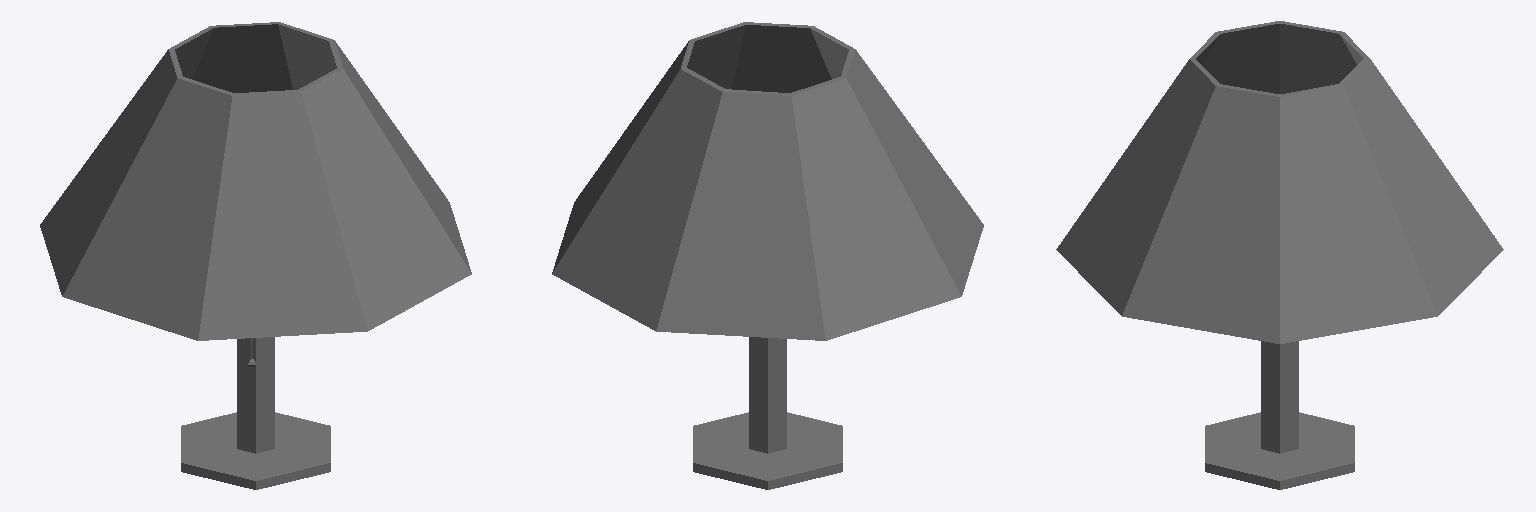
File: lamp.obj
3 views of the same model, side by side, from view 1: azimuth 30°, elevation 25°; view 2: azimuth 150°, elevation 25°; view 3: azimuth 270°, elevation 25° (orthographic).
Visible parts, largest first — view 1: pCylinder1, pCylinder2; view 2: pCylinder1, pCylinder2; view 3: pCylinder1, pCylinder2.
Part boxes in pixels (bbox=[...]): pCylinder1: bbox=[40, 22, 471, 340]; pCylinder2: bbox=[181, 337, 330, 489]; pCylinder1: bbox=[552, 22, 983, 340]; pCylinder2: bbox=[693, 337, 842, 489]; pCylinder1: bbox=[1056, 21, 1503, 343]; pCylinder2: bbox=[1205, 341, 1354, 489].
Size of the model in its own units: 109 by 106 by 109.